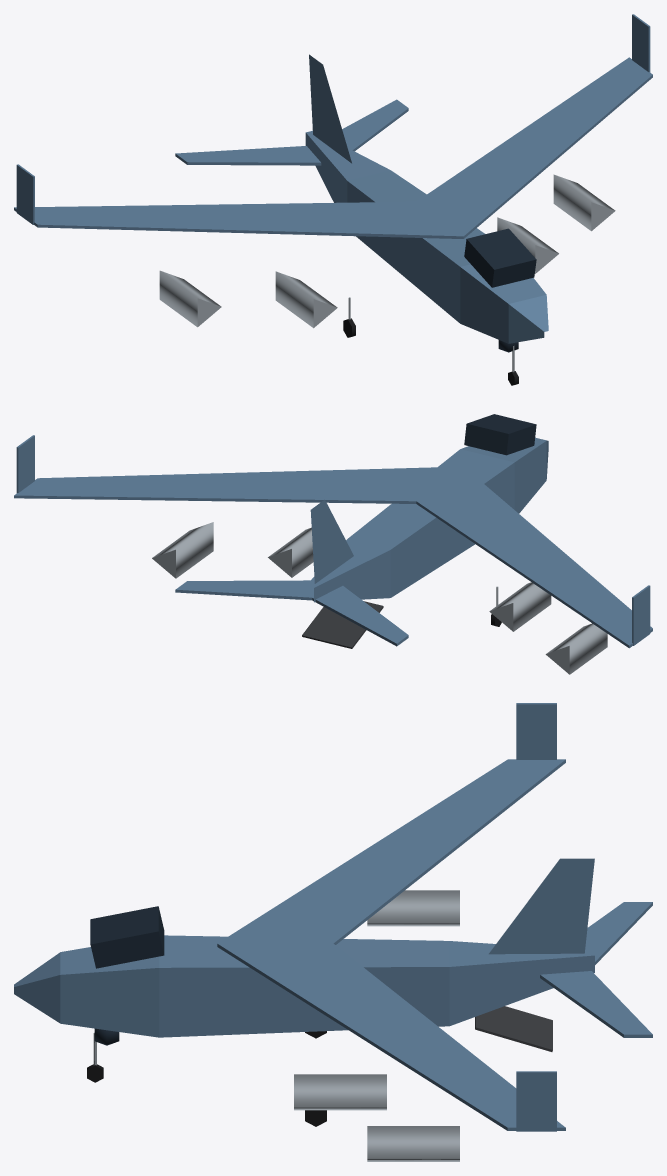
Rendered from veh_air_transport_plane_a10_lod2.glb.
3 views of the same model, one above another, from view 1: azimuth 30°, elevation 25°; view 2: azimuth 150°, elevation 25°; view 3: azimuth 270°, elevation 25° (orthographic). The views are drawn at different scales.
Visible parts, largest first — view 1: body; view 2: body, ramp; view 3: body, ramp.
Boxes of the visible parts, x1,y1,x2,y2 form: body: [14, 14, 652, 352]; body: [14, 414, 652, 674]; ramp: [302, 601, 383, 648]; body: [14, 703, 652, 1161]; ramp: [475, 1006, 552, 1051].
Size of the model in its own units: 27.68 by 7.81 by 20.24.
